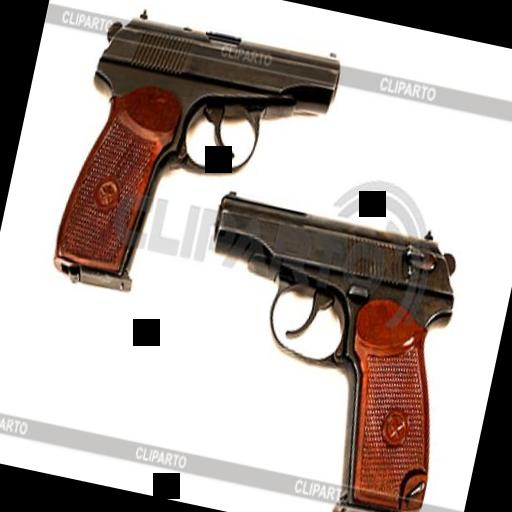Handgun: (167, 179, 477, 512), (46, 0, 346, 330)
